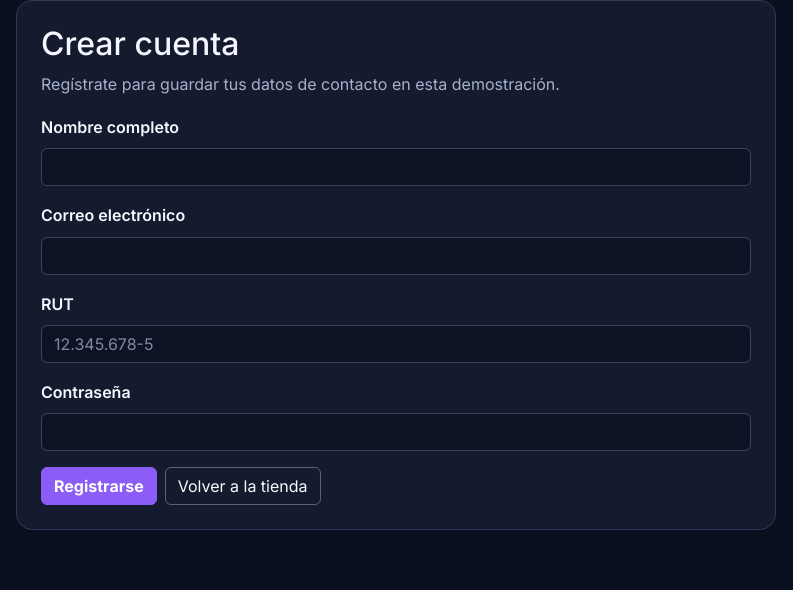
Scenario: Pruebas unitarias Pixel Game › 9. informa si el formulario de registro tiene errores
Step 1. Click the button "Registrarse" → [99, 486], box [41, 467, 157, 505]
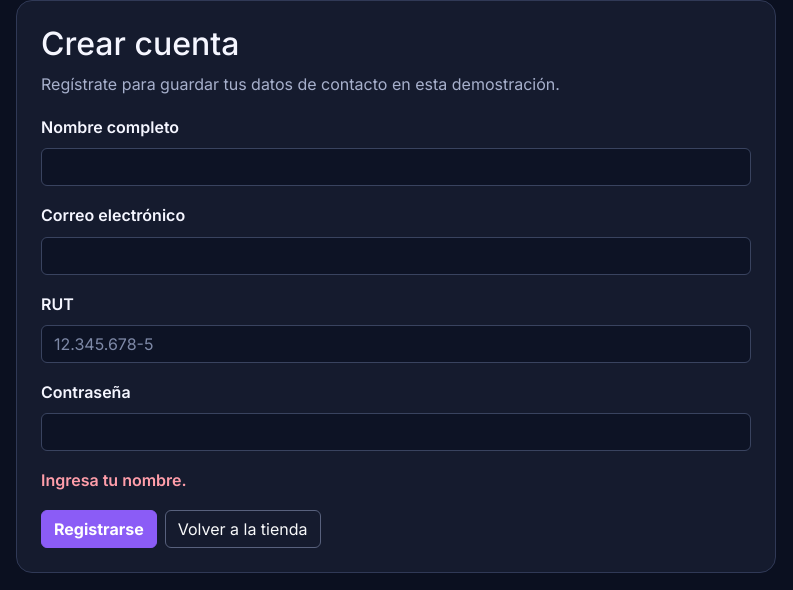
Now the message shows "nombre", box [41, 470, 187, 490]
